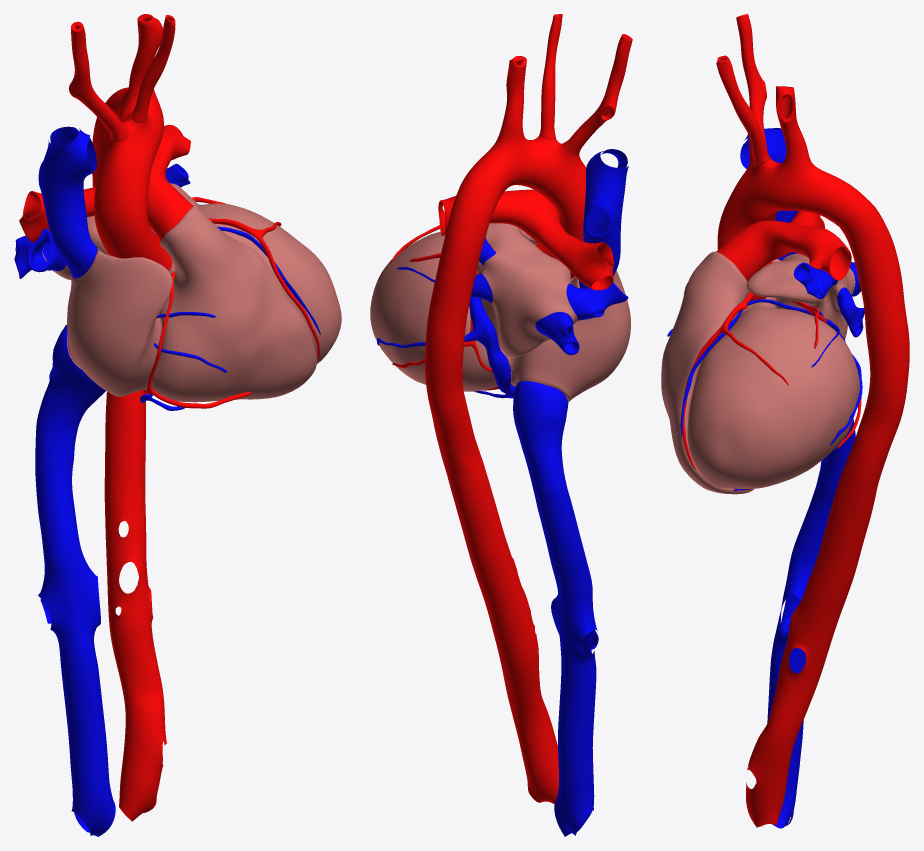
File: heart_hra_female_v1_1.glb
The picture shows the model from 3 angles, left to right: view 1: azimuth 30°, elevation 25°; view 2: azimuth 150°, elevation 25°; view 3: azimuth 270°, elevation 25°; orthographic projection. The views are drawn at different scales.
Parts seen in each view (by area): view 1: VH_F_right_ventricle, VH_F_inferior_vena_cava_b, VH_F_descending_aorta_b, VH_F_right_cardiac_atrium, VH_F_superior_vena_cava, VH_F_left_ventricle, VH_F_ascending_aorta, VH_F_aortic_arch, VH_F_inferior_vena_cava_a, VH_F_pulmonary_trunk, VH_F_brachiocephalic_artery_b, VH_F_pulmonary_artery_R (+8 smaller); view 2: VH_F_descending_aorta_b, VH_F_inferior_vena_cava_b, VH_F_descending_aorta_a, VH_F_left_cardiac_atrium, VH_F_left_ventricle, VH_F_right_cardiac_atrium, VH_F_aortic_arch, VH_F_inferior_vena_cava_a, VH_F_superior_vena_cava, VH_F_pulmonary_artery_R, VH_F_coronary_sinus, VH_F_brachiocephalic_artery_b (+8 smaller); view 3: VH_F_left_ventricle, VH_F_descending_aorta_b, VH_F_descending_aorta_a, VH_F_right_ventricle, VH_F_inferior_vena_cava_b, VH_F_aortic_arch, VH_F_left_cardiac_atrium, VH_F_pulmonary_artery_L, VH_F_pulmonary_trunk, VH_F_brachiocephalic_artery_b, VH_F_left_common_carotid_artery_b, VH_F_superior_vena_cava (+7 smaller).
Boxes of the visible parts, left/top/right/bottom form: VH_F_right_ventricle: left=144, top=205, right=316, bottom=402; VH_F_inferior_vena_cava_b: left=35, top=400, right=115, bottom=836; VH_F_descending_aorta_b: left=104, top=390, right=166, bottom=821; VH_F_right_cardiac_atrium: left=67, top=248, right=173, bottom=396; VH_F_superior_vena_cava: left=38, top=126, right=97, bottom=278; VH_F_left_ventricle: left=199, top=203, right=341, bottom=363; VH_F_ascending_aorta: left=94, top=172, right=172, bottom=270; VH_F_aortic_arch: left=98, top=87, right=163, bottom=177; VH_F_inferior_vena_cava_a: left=42, top=324, right=105, bottom=419; VH_F_pulmonary_trunk: left=147, top=167, right=193, bottom=240; VH_F_brachiocephalic_artery_b: left=68, top=21, right=112, bottom=122; VH_F_pulmonary_artery_R: left=19, top=187, right=95, bottom=242; VH_F_descending_aorta_b: left=442, top=445, right=558, bottom=804; VH_F_inferior_vena_cava_b: left=528, top=466, right=598, bottom=836; VH_F_descending_aorta_a: left=425, top=192, right=491, bottom=463; VH_F_left_cardiac_atrium: left=476, top=223, right=578, bottom=357; VH_F_left_ventricle: left=370, top=232, right=505, bottom=391; VH_F_right_cardiac_atrium: left=505, top=270, right=630, bottom=402; VH_F_aortic_arch: left=458, top=135, right=586, bottom=214; VH_F_inferior_vena_cava_a: left=513, top=381, right=568, bottom=468; VH_F_superior_vena_cava: left=579, top=149, right=628, bottom=288; VH_F_pulmonary_artery_R: left=531, top=208, right=613, bottom=290; VH_F_coronary_sinus: left=469, top=297, right=515, bottom=398; VH_F_brachiocephalic_artery_b: left=579, top=34, right=632, bottom=138; VH_F_left_ventricle: left=687, top=307, right=859, bottom=488; VH_F_descending_aorta_b: left=746, top=461, right=880, bottom=827; VH_F_descending_aorta_a: left=836, top=202, right=909, bottom=480; VH_F_right_ventricle: left=661, top=251, right=754, bottom=494; VH_F_inferior_vena_cava_b: left=767, top=433, right=855, bottom=828; VH_F_aortic_arch: left=733, top=158, right=869, bottom=224; VH_F_left_cardiac_atrium: left=746, top=253, right=855, bottom=339; VH_F_pulmonary_artery_L: left=762, top=221, right=851, bottom=280; VH_F_pulmonary_trunk: left=716, top=220, right=791, bottom=281; VH_F_brachiocephalic_artery_b: left=736, top=14, right=766, bottom=130; VH_F_left_common_carotid_artery_b: left=716, top=55, right=763, bottom=144; VH_F_superior_vena_cava: left=740, top=128, right=798, bottom=260.
Size of the model in its own units: 0.1576 by 0.4519 by 0.1268.
